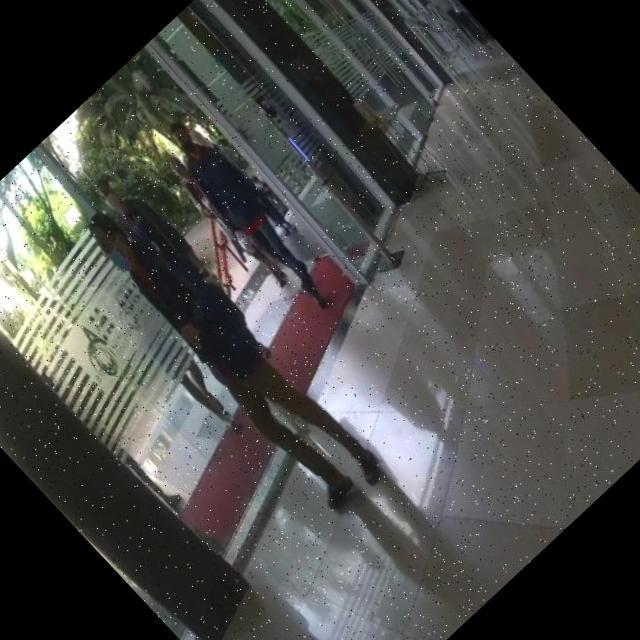person: (72, 178, 402, 523), (149, 109, 353, 322)
